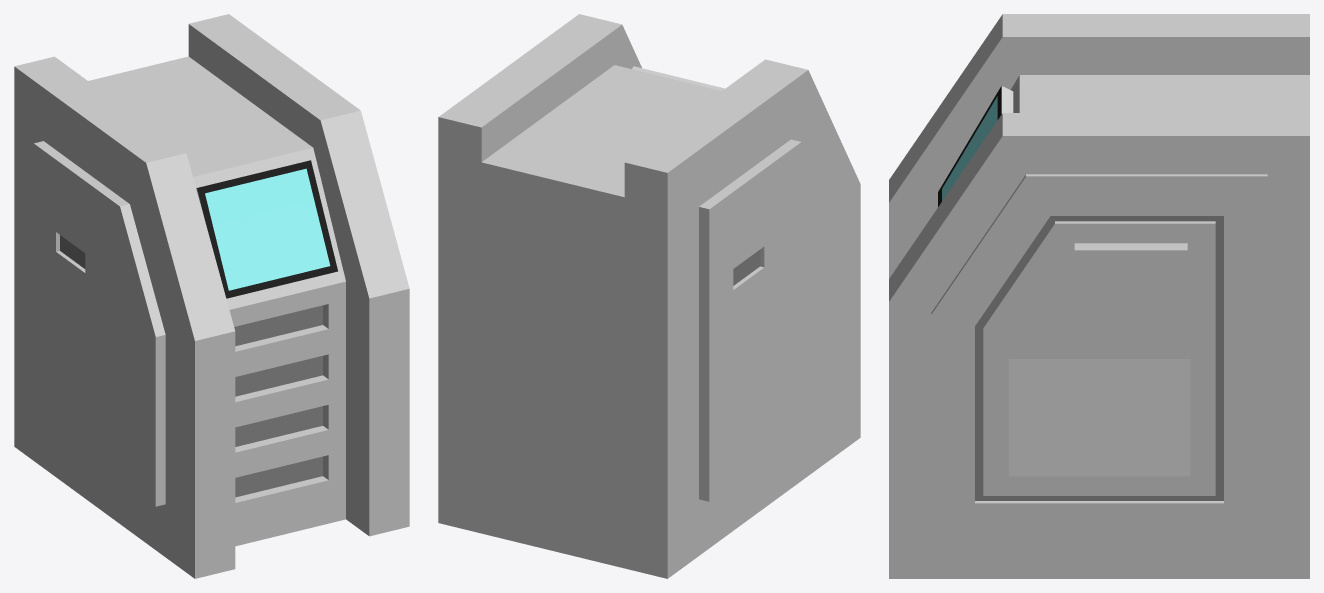
Rendered from SciFi_Modular_Computer_Console_Control_White_01.fbx.
3 views of the same model, side by side, from view 1: azimuth 30°, elevation 25°; view 2: azimuth 150°, elevation 25°; view 3: azimuth 270°, elevation 25° (orthographic). The views are drawn at different scales.
Visible parts, largest first — view 1: SciFi_Modular_Computer_Console_Control_White_01; view 2: SciFi_Modular_Computer_Console_Control_White_01; view 3: SciFi_Modular_Computer_Console_Control_White_01.
Part boxes in pixels (box(x1,y1,x2,y2)): SciFi_Modular_Computer_Console_Control_White_01: box(14, 14, 409, 578); SciFi_Modular_Computer_Console_Control_White_01: box(438, 14, 860, 578); SciFi_Modular_Computer_Console_Control_White_01: box(889, 14, 1309, 578).
Size of the model in its own units: 39.33 by 59.48 by 51.21.
